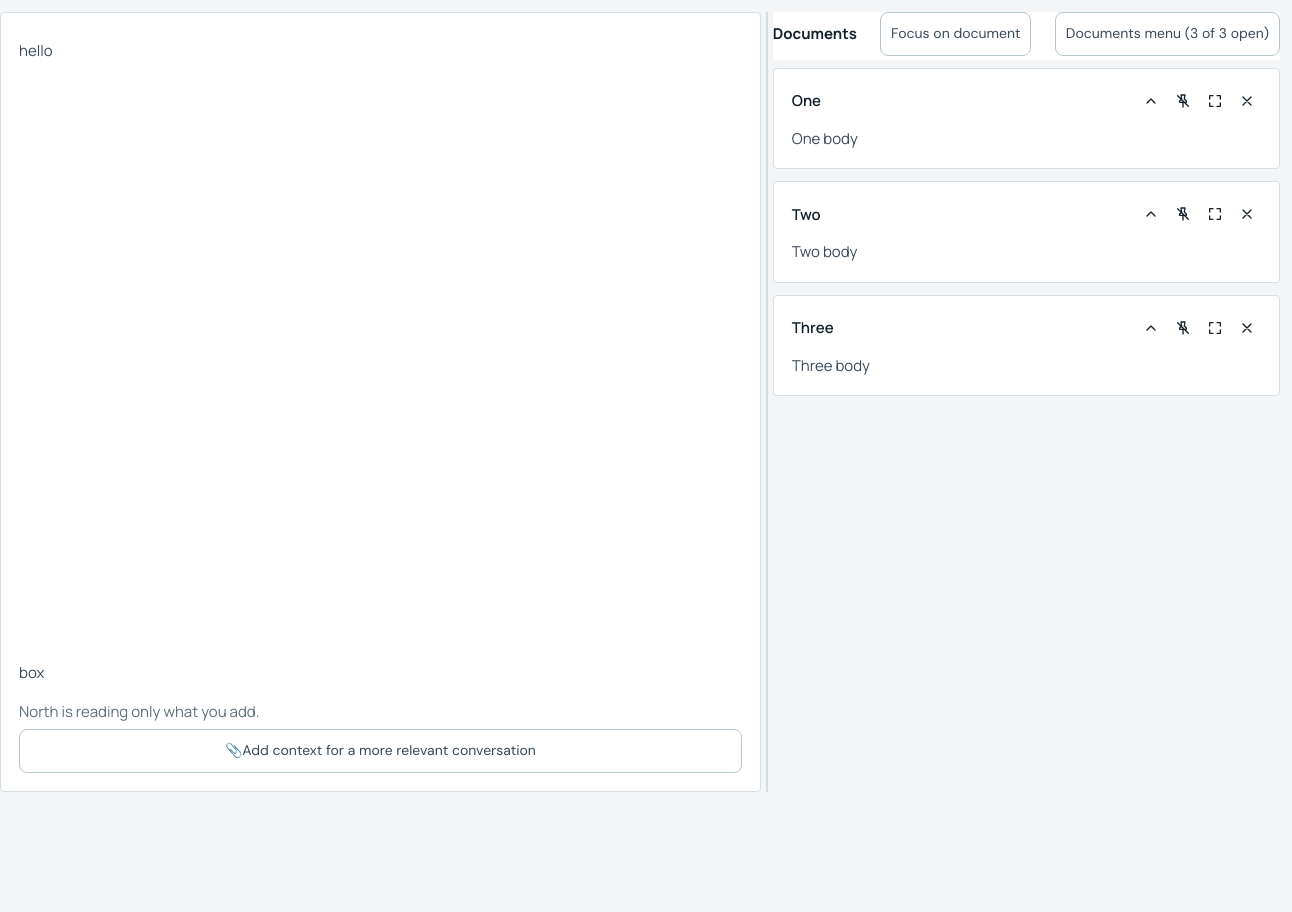
Scenario: the layout still works when storage is blocked
Click the button named "Close One". click: point(1247, 101)
box: x1=1233 y1=87 x2=1261 y2=115
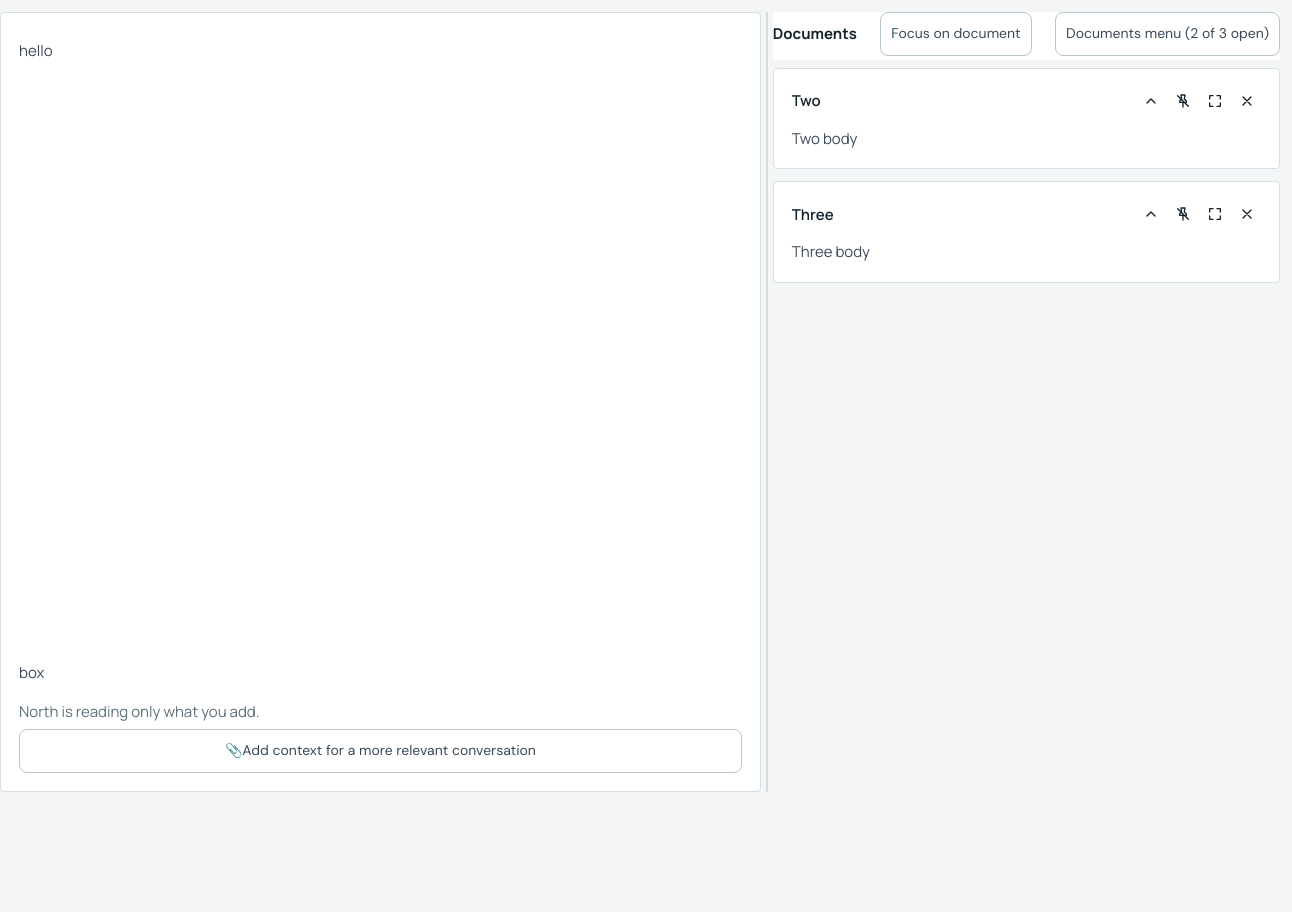
Result: the text "One body" is gone
